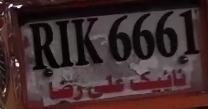RIK6664: (3, 2, 205, 107)
